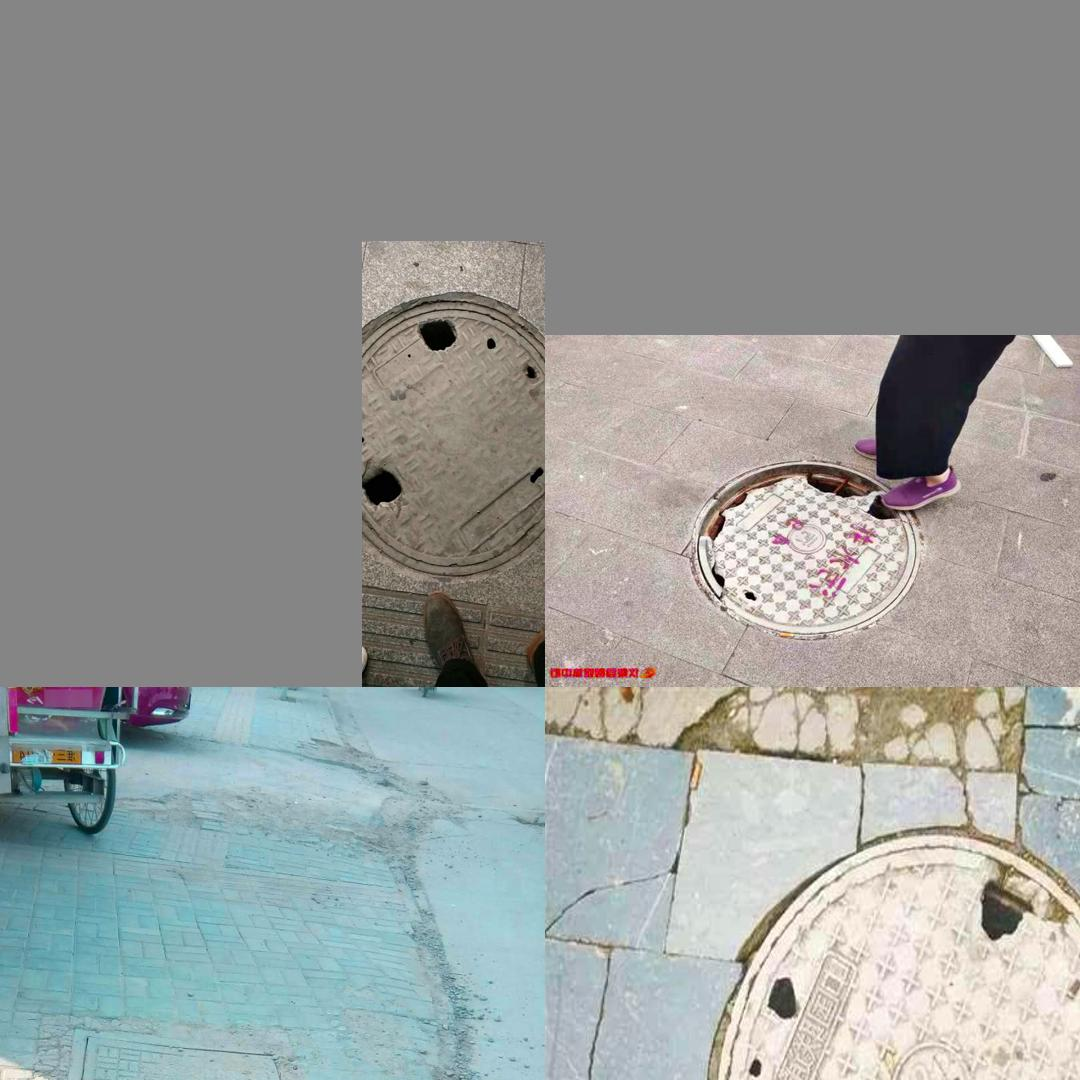broke: (714, 834, 1080, 1080), (362, 291, 544, 575), (677, 461, 930, 635), (58, 1046, 292, 1080)
